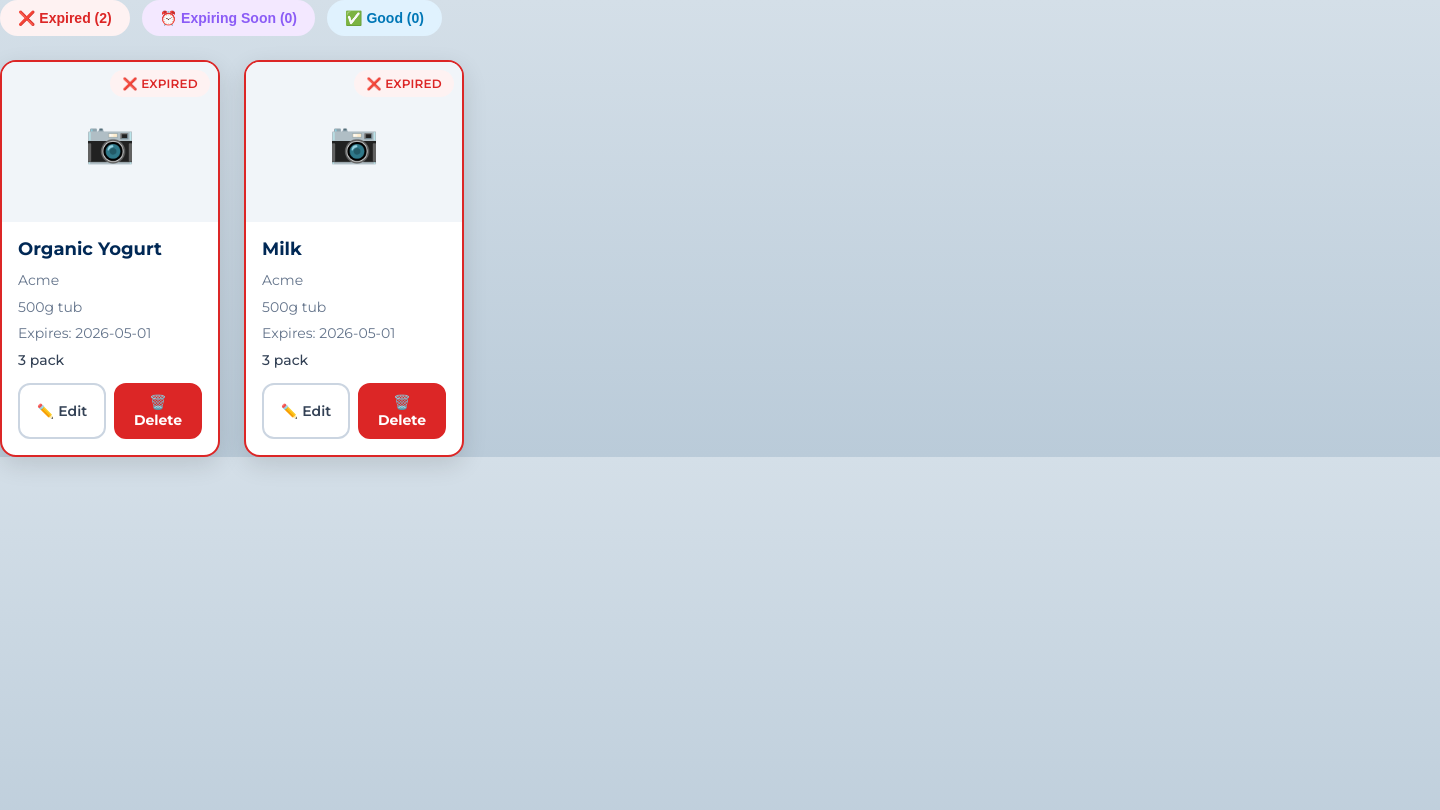
Test: InventoryDashboard success feedback and image preservation › shows a success toast after confirming a delete
Expected: the element with test id "inventory-grid" is shown, [0,60,464,457]
# Delete the first product's card.
Click the button with test id "delete-product-btn" below "Organic Yogurt" at (158, 411), box [114,383,202,439]
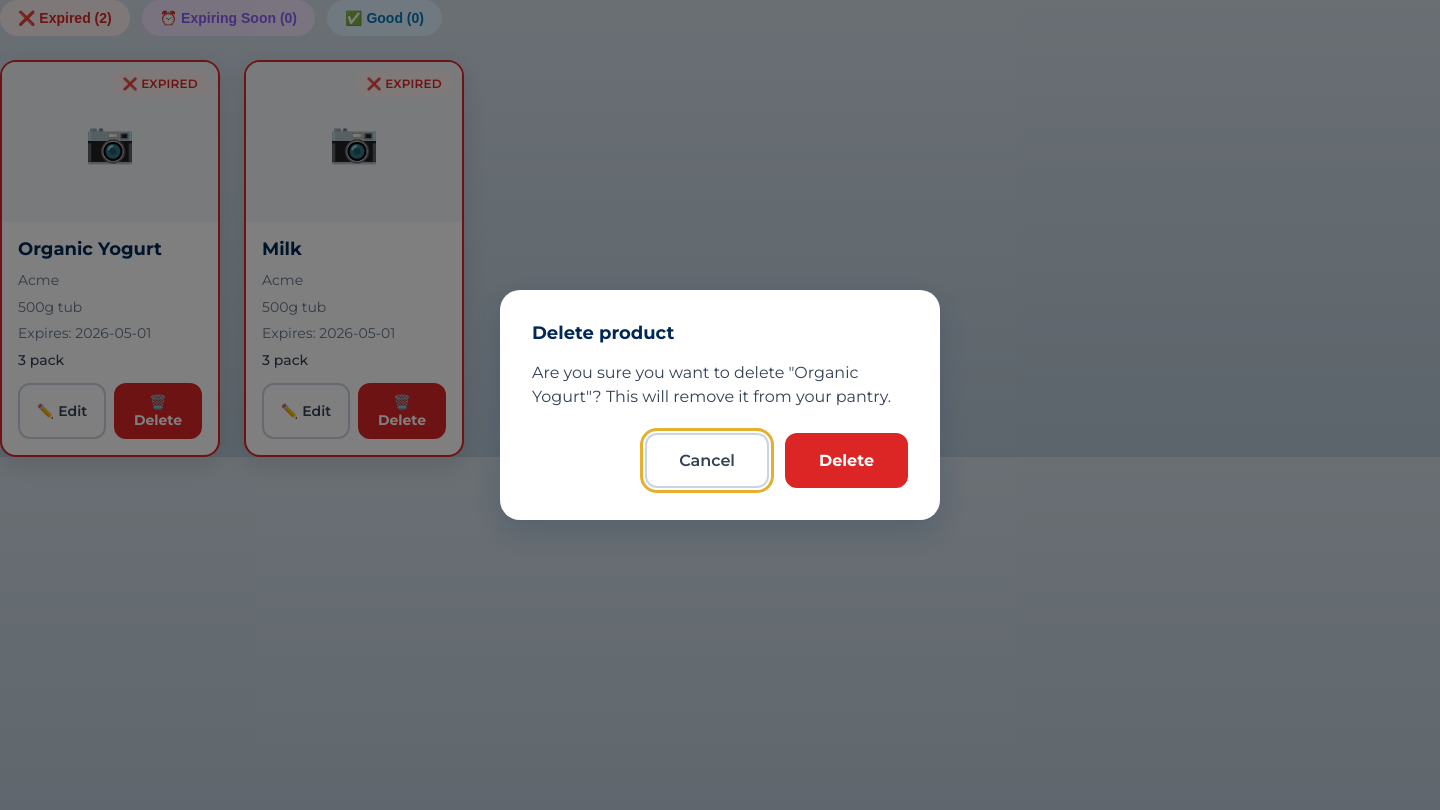
Expected: the dialog is shown, [500,290,940,520]
Click the button with test id "delete-confirm-btn" at (846, 461), box [785,433,908,488]
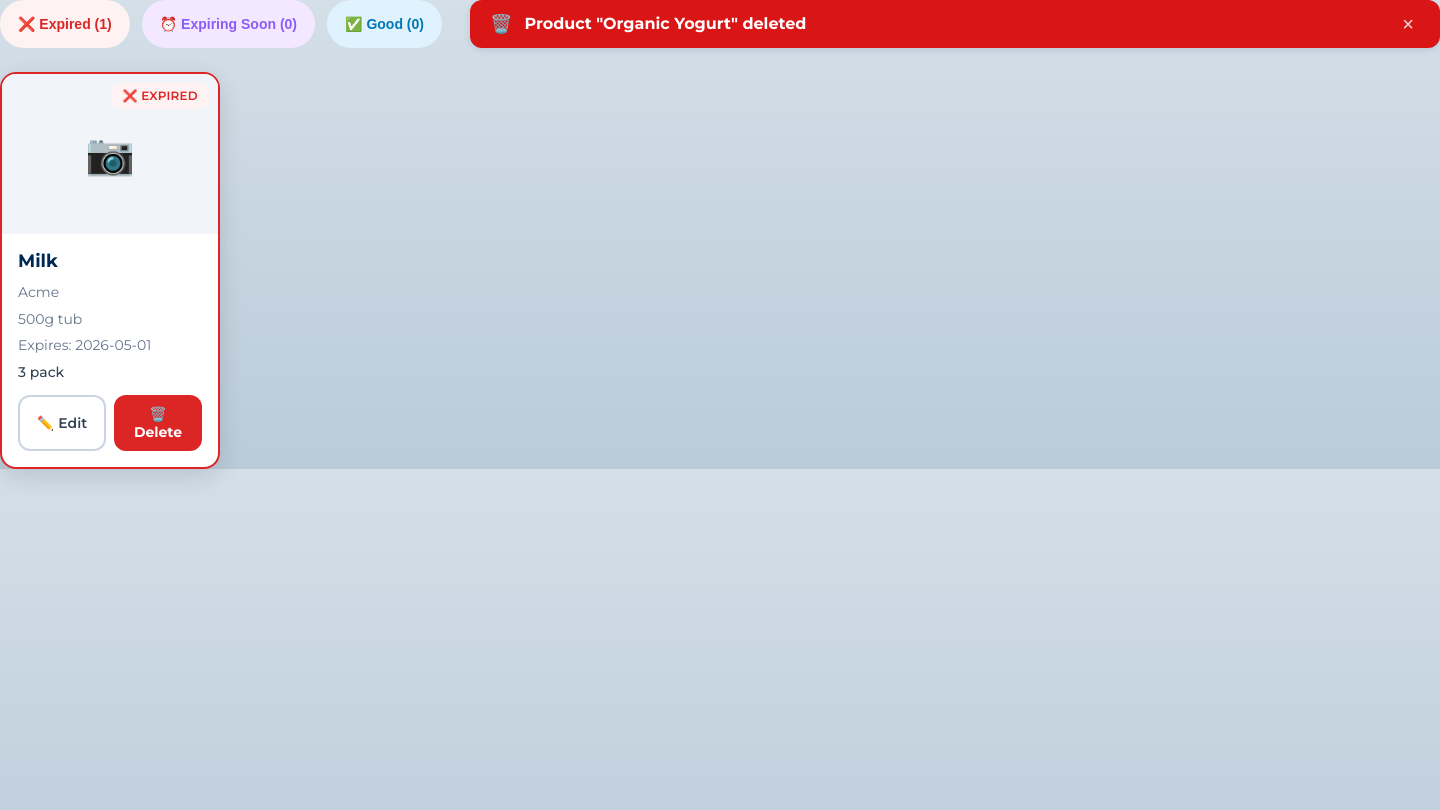
Expected: the message with test id "success-toast" reads "🗑️ Product \"Organic Yogurt\" deleted ×", [524,14,806,33]
